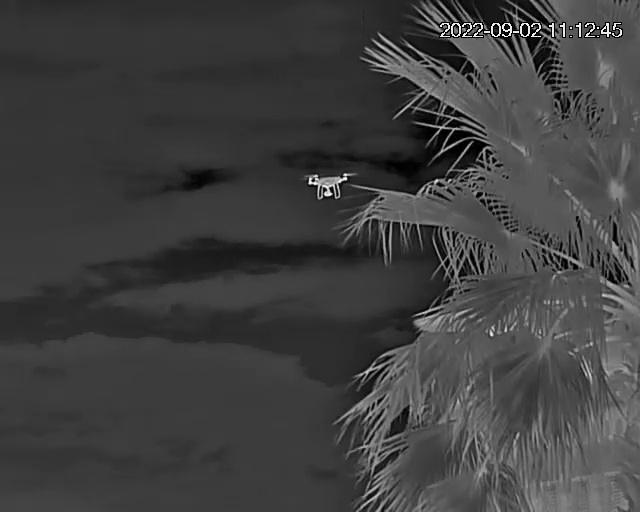DJI-Phantom: (305, 167, 359, 201)
